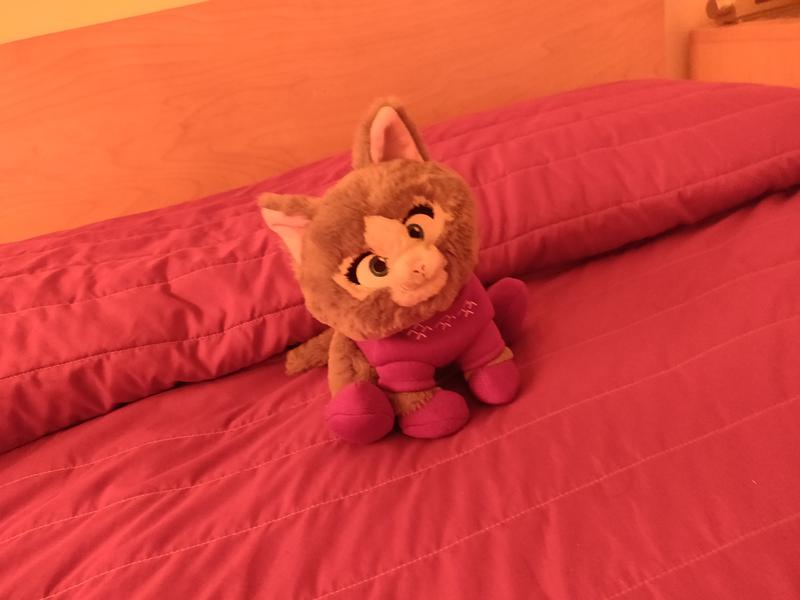kitten: (242, 95, 541, 465)
